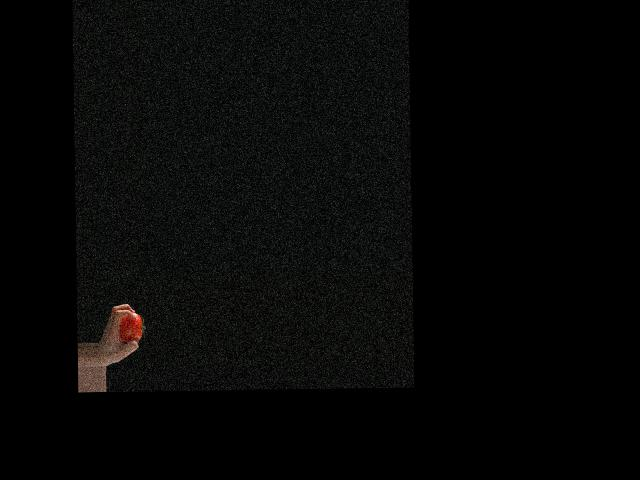tomato: (120, 313, 145, 342)
